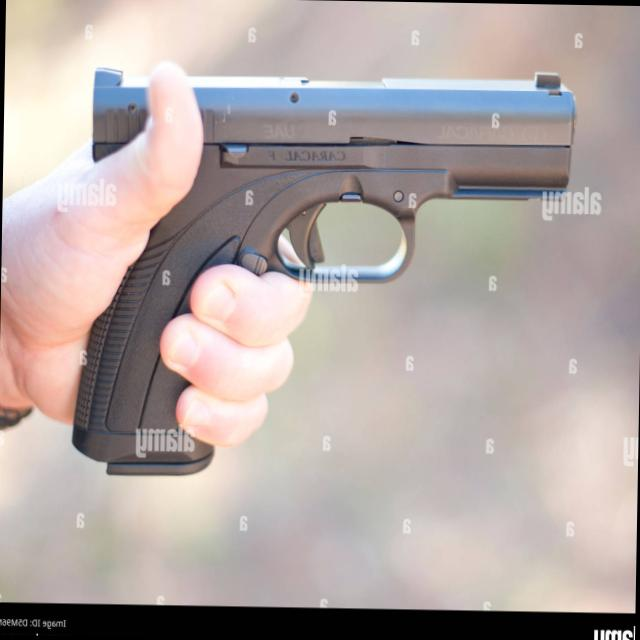Gun: (63, 65, 586, 528)
